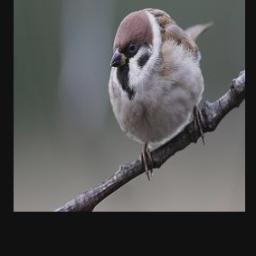Sparrow: (108, 6, 213, 179)
